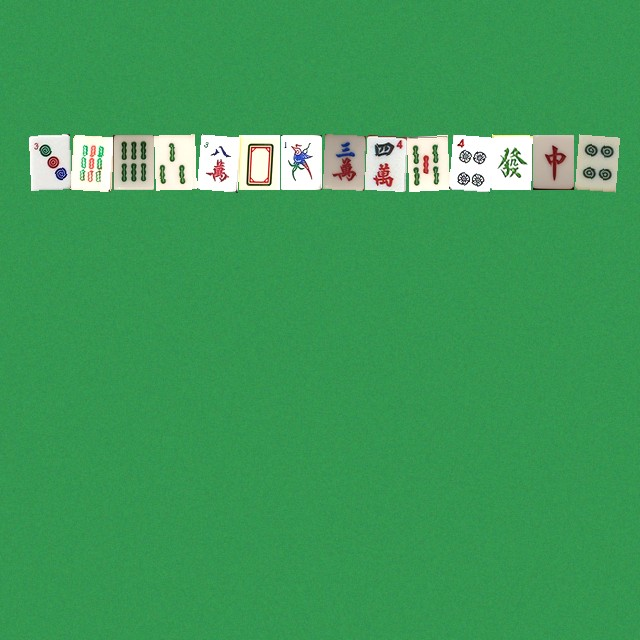tile: (28, 134, 69, 189), (70, 134, 111, 189), (112, 134, 153, 189), (154, 134, 195, 189), (196, 134, 237, 189), (238, 134, 279, 189), (280, 134, 321, 189), (322, 134, 363, 189), (364, 134, 405, 189), (406, 134, 447, 189), (448, 134, 489, 189), (490, 134, 531, 189), (532, 134, 573, 189), (574, 134, 615, 189)
